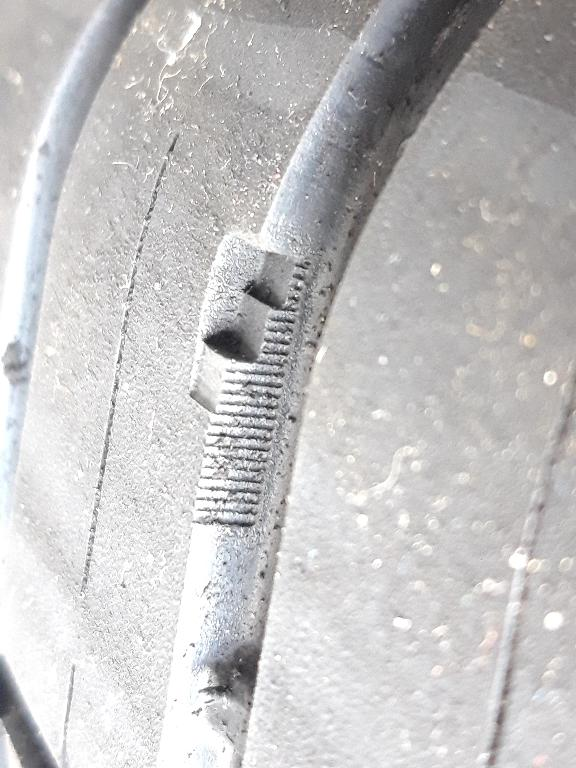temoin:50: (178, 221, 324, 436)
